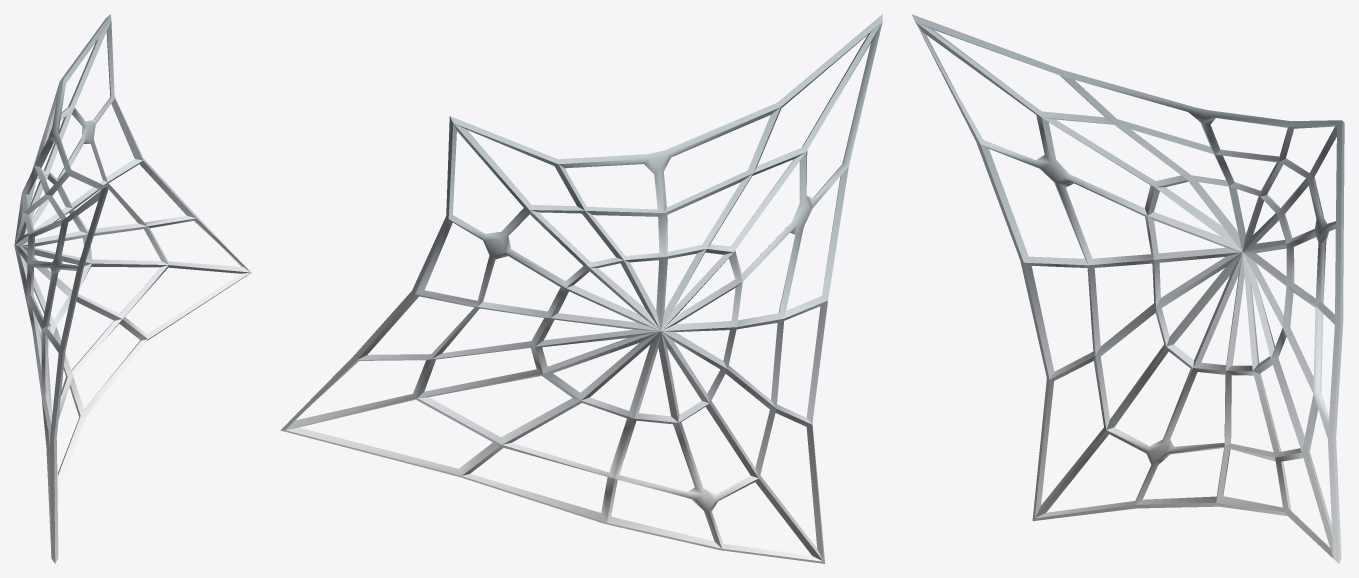
Rendered from cobweb_C.gltf.
The picture shows the model from 3 angles, left to right: view 1: azimuth 30°, elevation 25°; view 2: azimuth 150°, elevation 25°; view 3: azimuth 270°, elevation 25°; orthographic projection. The views are drawn at different scales.
Parts seen in each view (by area): view 1: cobweb_C; view 2: cobweb_C; view 3: cobweb_C.
Boxes of the visible parts, bbox=[...] form: cobweb_C: bbox=[14, 14, 251, 563]; cobweb_C: bbox=[280, 14, 882, 563]; cobweb_C: bbox=[911, 14, 1344, 563].
Bounding box in the file's own units: 2.63 × 3.22 × 2.48.
Materials: 1 (1 with a texture image).
